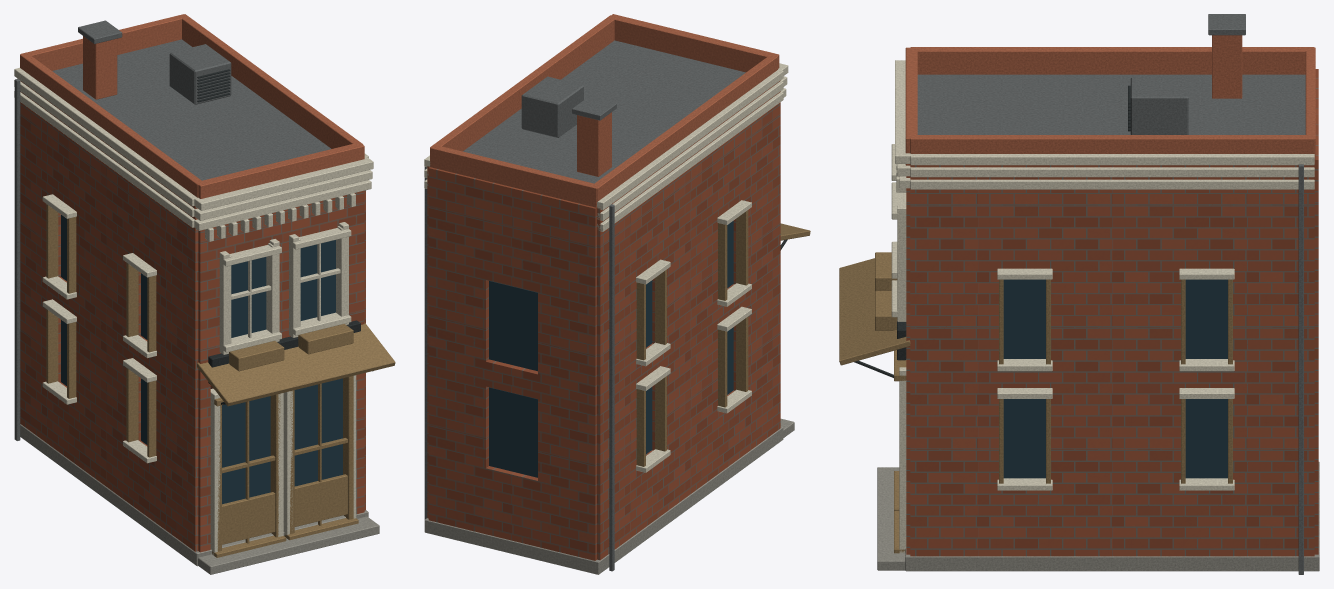
The model's file is CLSTGA12_lod1.glb.
3 views of the same model, side by side, from view 1: azimuth 30°, elevation 25°; view 2: azimuth 150°, elevation 25°; view 3: azimuth 270°, elevation 25° (orthographic). The views are drawn at different scales.
Visible parts, largest first — view 1: CLSTGA12_LOD1; view 2: CLSTGA12_LOD1; view 3: CLSTGA12_LOD1.
Part boxes in pixels (<box>): CLSTGA12_LOD1: <box>14,14,395,574</box>; CLSTGA12_LOD1: <box>424,14,810,574</box>; CLSTGA12_LOD1: <box>839,14,1319,574</box>.
Bounding box in the file's own units: 3.71 × 7.85 × 7.13.
9 materials, 7 textured.
